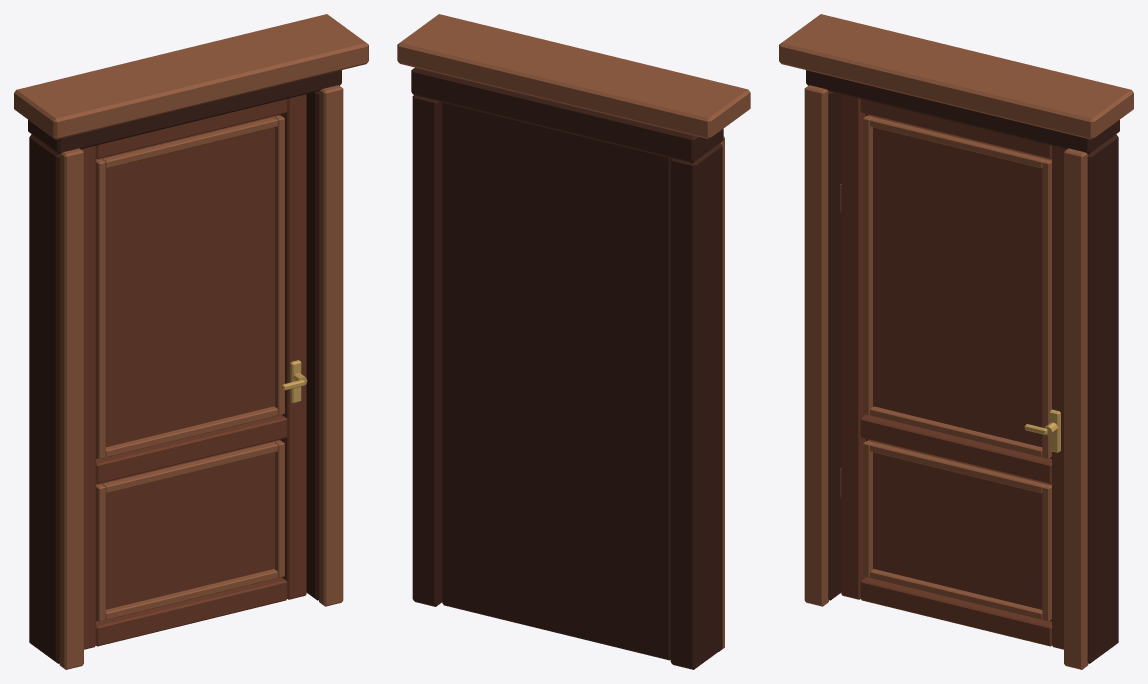
The model's file is double_arch_door.glb.
3 views of the same model, side by side, from view 1: azimuth 30°, elevation 25°; view 2: azimuth 150°, elevation 25°; view 3: azimuth 330°, elevation 25° (orthographic).
Parts seen in each view (by area): view 1: Panel_0_1_Field, Panel_0_0_Field, Cornice, Jamb__1, Jamb_moulding_1, Jamb_moulding__1, Leaf_stile_0_1, Jamb_1, Leaf_stile_0__1, Lintel, Leaf_crossrail_0_0_048, Leaf_crossrail_0_0_812 (+9 smaller); view 2: Leaf_0, Jamb__1, Cornice, Jamb_1, Lintel, Jamb_moulding__1; view 3: Panel_0_1_Field, Panel_0_0_Field, Cornice, Jamb_1, Jamb_moulding__1, Jamb_moulding_1, Leaf_stile_0__1, Jamb__1, Leaf_stile_0_1, Lintel, Leaf_crossrail_0_0_048, Leaf_crossrail_0_0_812 (+9 smaller).
Part boxes in pixels (<box>): Panel_0_1_Field: <box>96,115,279,447</box>; Panel_0_0_Field: <box>96,439,279,609</box>; Cornice: <box>14,14,368,139</box>; Jamb__1: <box>29,134,60,663</box>; Jamb_moulding_1: <box>319,85,343,606</box>; Jamb_moulding__1: <box>59,148,83,669</box>; Leaf_stile_0_1: <box>282,94,306,599</box>; Jamb_1: <box>306,91,319,600</box>; Leaf_stile_0__1: <box>81,145,95,649</box>; Lintel: <box>28,70,341,154</box>; Leaf_crossrail_0_0_048: <box>96,577,287,646</box>; Leaf_crossrail_0_0_812: <box>96,415,287,483</box>; Leaf_0: <box>442,102,671,660</box>; Jamb__1: <box>670,143,722,669</box>; Cornice: <box>397,14,750,138</box>; Jamb_1: <box>412,95,442,606</box>; Lintel: <box>411,67,723,162</box>; Jamb_moulding__1: <box>719,136,724,651</box>; Panel_0_1_Field: <box>868,115,1051,447</box>; Panel_0_0_Field: <box>868,439,1051,609</box>; Cornice: <box>779,14,1133,139</box>; Jamb_1: <box>1087,134,1118,663</box>; Jamb_moulding__1: <box>804,85,828,606</box>; Jamb_moulding_1: <box>1064,148,1088,669</box>; Leaf_stile_0__1: <box>841,94,865,599</box>; Jamb__1: <box>828,91,841,600</box>; Leaf_stile_0_1: <box>1052,145,1066,649</box>; Lintel: <box>806,70,1119,154</box>; Leaf_crossrail_0_0_048: <box>860,577,1051,646</box>; Leaf_crossrail_0_0_812: <box>860,415,1051,483</box>.
Bounding box in the file's own units: 1.55 × 2.64 × 0.37.
